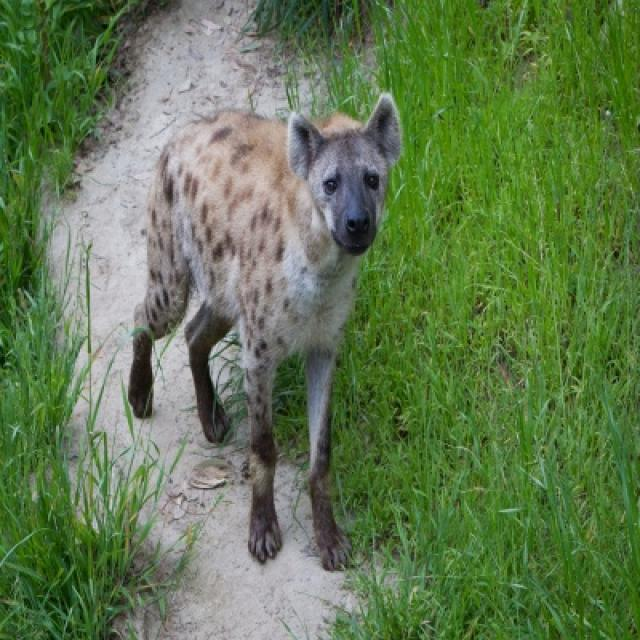hyena: (126, 93, 405, 573)
